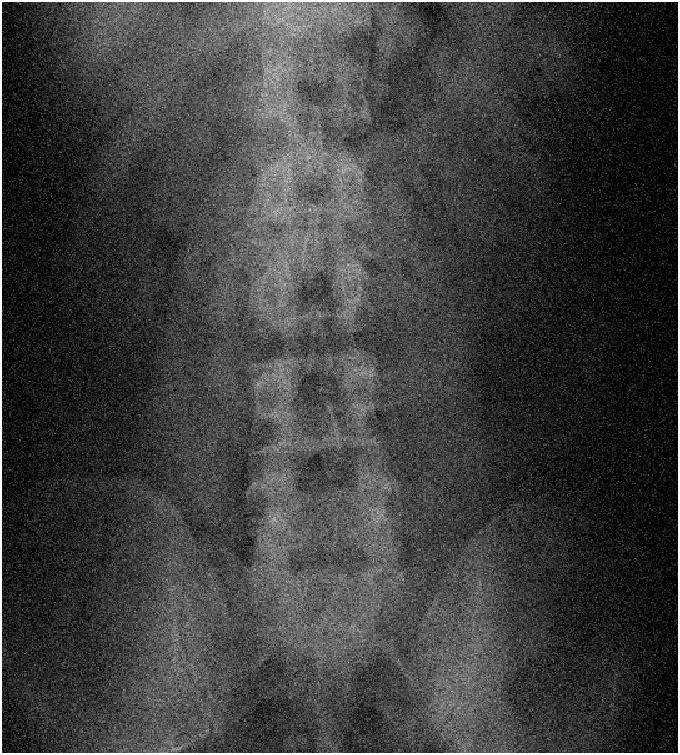lumbar scoliosis: (248, 141, 387, 613)
